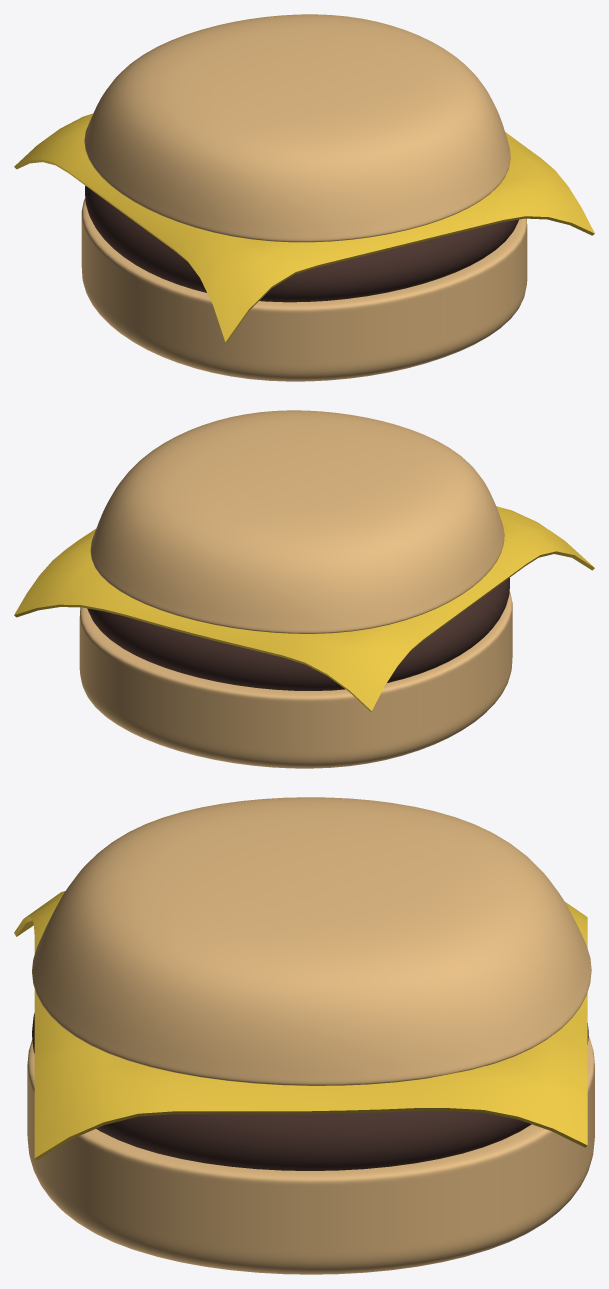
The model's file is hamburger.glb.
3 renders of one model, top to bottom at view 1: azimuth 30°, elevation 25°; view 2: azimuth 150°, elevation 25°; view 3: azimuth 270°, elevation 25°, orthographic. The views are drawn at different scales.
Visible parts, largest first — view 1: Cube.005, Cube.002, Plane, Cube.003; view 2: Cube.005, Cube.002, Plane, Cube.003; view 3: Cube.005, Cube.002, Plane, Cube.003.
Boxes of the visible parts, bbox=[...] form: Cube.005: bbox=[84, 14, 510, 242]; Cube.002: bbox=[81, 198, 527, 381]; Plane: bbox=[14, 113, 594, 343]; Cube.003: bbox=[85, 186, 518, 302]; Cube.005: bbox=[90, 410, 504, 633]; Cube.002: bbox=[79, 592, 512, 768]; Plane: bbox=[14, 506, 594, 711]; Cube.003: bbox=[87, 578, 509, 690]; Cube.005: bbox=[32, 797, 591, 1085]; Cube.002: bbox=[27, 1036, 594, 1274]; Plane: bbox=[14, 891, 587, 1160]; Cube.003: bbox=[32, 1013, 588, 1170].
Bounding box in the file's own units: 9.24 × 5.52 × 9.36.
